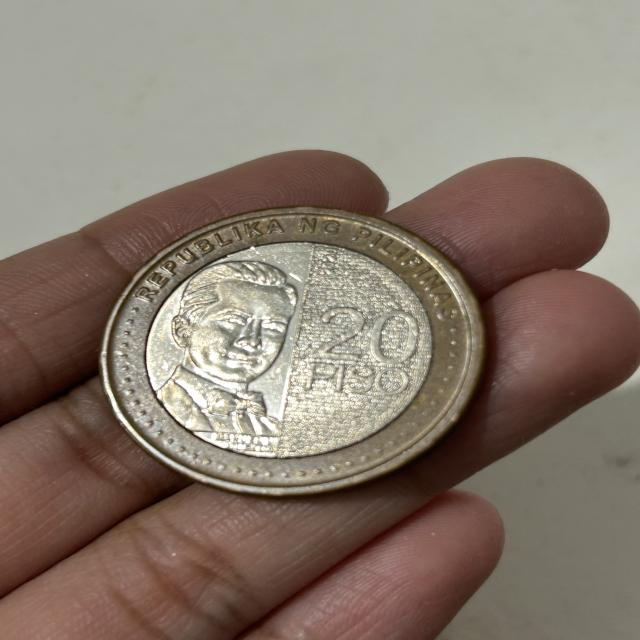20_New_Front: (308, 294, 421, 403)
